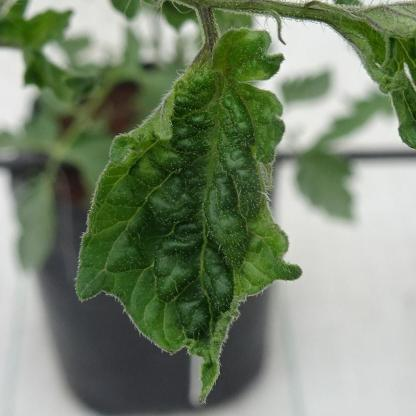T_L_R: (74, 29, 304, 408)
